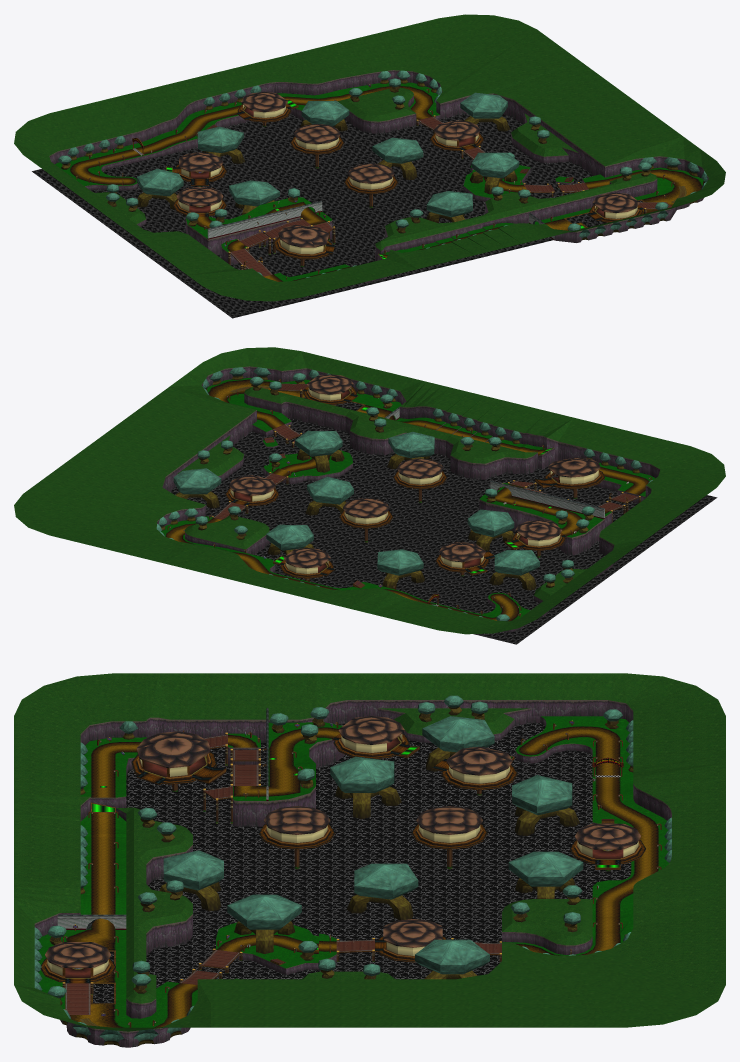
3 views of the same model, one above another, from view 1: azimuth 30°, elevation 25°; view 2: azimuth 150°, elevation 25°; view 3: azimuth 270°, elevation 25° (orthographic). The views are drawn at different scales.
Parts seen in each view (by area): view 1: _3Grass_Visual_(OOB)(HEAVY) GRASS OFFROAD, _3Water_WATER OOB, _2Mountain_Wall_WALL, _3Tree_Leaves_WALL, _3Latern_House_Roof_WOOD ROAD, _1Dirt_Road_DIRT ROAD, _1Grass_GRASS OFFROAD, _3Tree_Trunk_WALL, _1Boardwalk_Road_WOOD ROAD, _1Latern_Road_Type_2_WOOD ROAD, _2Latern_House_Window_WALL, _2Latern_Wall_Type_3_WALL (+4 smaller); view 2: _3Grass_Visual_(OOB)(HEAVY) GRASS OFFROAD, _3Water_WATER OOB, _2Mountain_Wall_WALL, _3Tree_Leaves_WALL, _3Latern_House_Roof_WOOD ROAD, _1Dirt_Road_DIRT ROAD, _1Grass_GRASS OFFROAD, _3Tree_Trunk_WALL, _2Latern_Wall_Type_3_WALL, _1Latern_Road_Type_2_WOOD ROAD, _2Latern_House_Window_WALL, _1Boardwalk_Road_WOOD ROAD (+4 smaller); view 3: _3Grass_Visual_(OOB)(HEAVY) GRASS OFFROAD, _3Water_WATER OOB, _3Tree_Leaves_WALL, _1Dirt_Road_DIRT ROAD, _2Mountain_Wall_WALL, _1Grass_GRASS OFFROAD, _3Latern_House_Roof_WOOD ROAD, _3Tree_Trunk_WALL, _1Boardwalk_Road_WOOD ROAD, _1Latern_Road_Type_2_WOOD ROAD, _2Latern_Wall_Type_3_WALL, _2Latern_House_Window_WALL (+4 smaller).
Boxes of the visible parts, box(x1,y1,x2,y2) form: _3Grass_Visual_(OOB)(HEAVY) GRASS OFFROAD: box(14, 14, 725, 301); _3Water_WATER OOB: box(32, 113, 592, 318); _2Mountain_Wall_WALL: box(49, 70, 708, 283); _3Tree_Leaves_WALL: box(58, 70, 707, 277); _3Latern_House_Roof_WOOD ROAD: box(176, 92, 639, 247); _1Dirt_Road_DIRT ROAD: box(70, 85, 702, 281); _1Grass_GRASS OFFROAD: box(55, 82, 703, 281); _3Tree_Trunk_WALL: box(61, 79, 704, 240); _1Boardwalk_Road_WOOD ROAD: box(230, 116, 671, 276); _1Latern_Road_Type_2_WOOD ROAD: box(173, 104, 643, 258); _2Latern_House_Window_WALL: box(178, 104, 637, 254); _2Latern_Wall_Type_3_WALL: box(173, 106, 643, 259); _3Grass_Visual_(OOB)(HEAVY) GRASS OFFROAD: box(14, 347, 725, 634); _3Water_WATER OOB: box(170, 418, 717, 644); _2Mountain_Wall_WALL: box(157, 366, 660, 632); _3Tree_Leaves_WALL: box(156, 367, 652, 621); _3Latern_House_Roof_WOOD ROAD: box(229, 374, 600, 568); _1Dirt_Road_DIRT ROAD: box(165, 379, 649, 621); _1Grass_GRASS OFFROAD: box(161, 378, 655, 619); _3Tree_Trunk_WALL: box(161, 375, 639, 590); _2Latern_Wall_Type_3_WALL: box(225, 388, 604, 578); _1Latern_Road_Type_2_WOOD ROAD: box(225, 387, 604, 577); _2Latern_House_Window_WALL: box(230, 387, 598, 573); _1Boardwalk_Road_WOOD ROAD: box(213, 383, 638, 519); _3Grass_Visual_(OOB)(HEAVY) GRASS OFFROAD: box(14, 673, 725, 1031); _3Water_WATER OOB: box(126, 723, 631, 988); _3Tree_Leaves_WALL: box(34, 695, 671, 1041); _1Dirt_Road_DIRT ROAD: box(65, 726, 659, 1027); _2Mountain_Wall_WALL: box(34, 700, 671, 1047); _1Grass_GRASS OFFROAD: box(38, 716, 668, 1027); _3Latern_House_Roof_WOOD ROAD: box(45, 716, 640, 967); _3Tree_Trunk_WALL: box(49, 706, 633, 1046); _1Boardwalk_Road_WOOD ROAD: box(65, 734, 501, 1014); _1Latern_Road_Type_2_WOOD ROAD: box(41, 733, 645, 983); _2Latern_Wall_Type_3_WALL: box(41, 736, 645, 982); _2Latern_House_Window_WALL: box(47, 734, 638, 975).
Size of the model in its own units: 132000 by 9234 by 112000.
34 materials, 34 textured.
